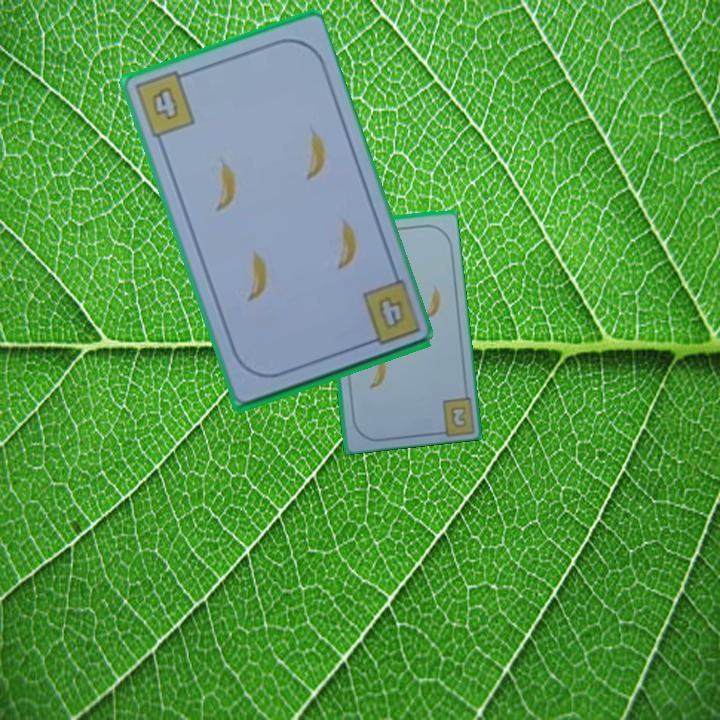2b: (447, 402, 470, 431)
4b: (130, 67, 198, 141), (374, 292, 407, 332)
